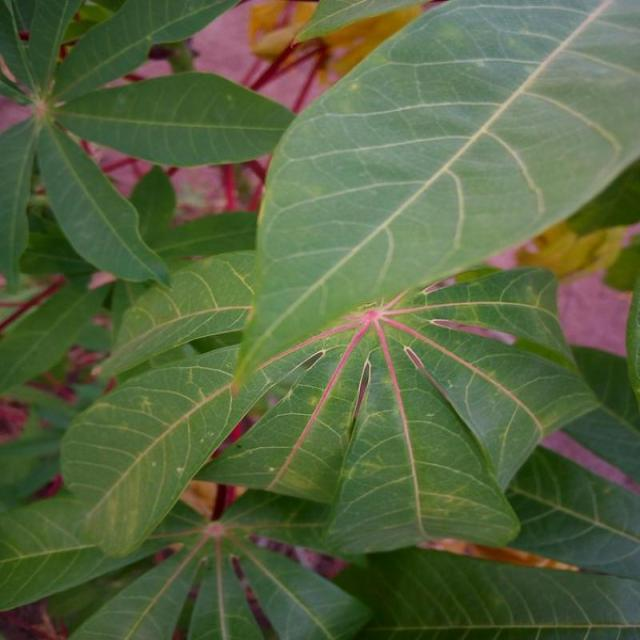cassava leaf: (2, 1, 638, 637), (231, 0, 638, 395)
